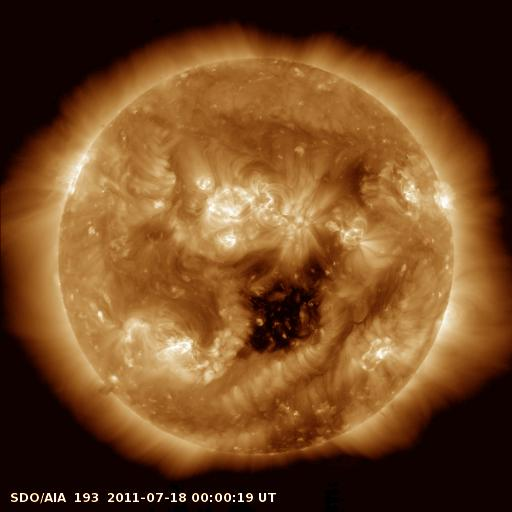coronal_hole: (223, 240, 341, 366), (255, 397, 352, 460)
